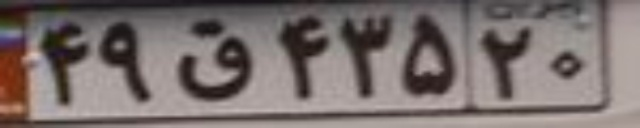0: (548, 49, 584, 78)
2: (481, 25, 530, 100)
3: (338, 14, 393, 98)
4: (277, 17, 330, 98), (40, 24, 92, 106)
5: (400, 15, 455, 95)
9: (96, 24, 151, 99)
ghaf: (166, 19, 257, 101)
